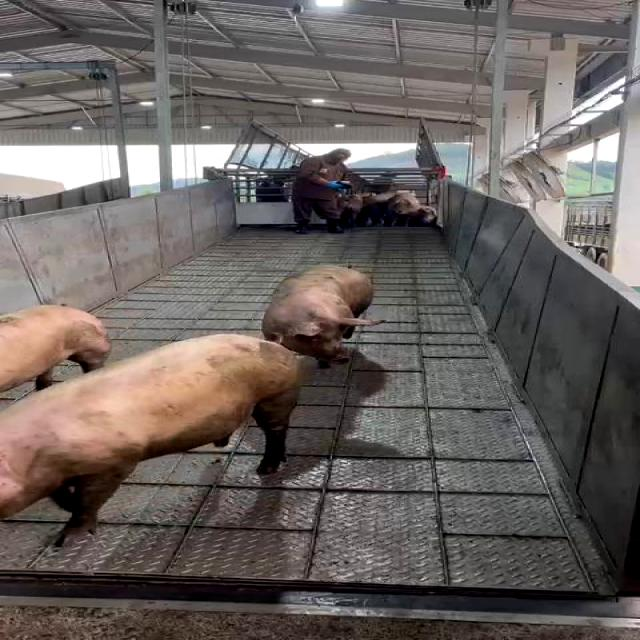pig: (1, 334, 310, 546), (263, 267, 377, 367), (0, 305, 111, 396)
